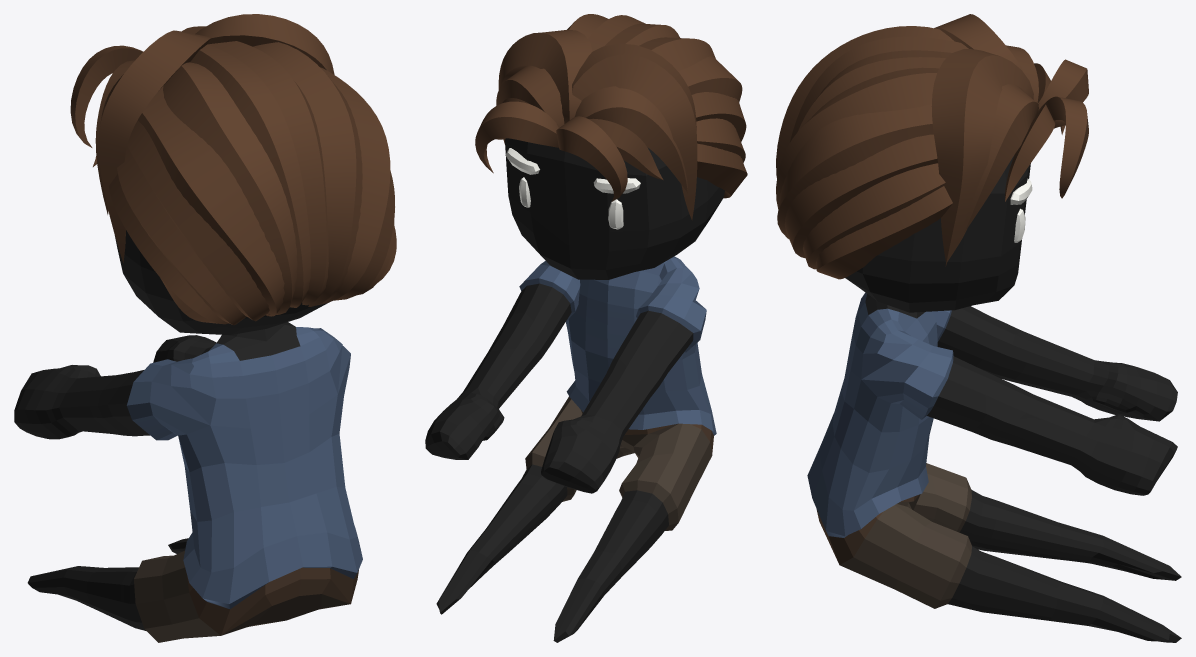
Rendered from Pilot_TiDjo.fbx.
The picture shows the model from 3 angles, left to right: view 1: azimuth 30°, elevation 25°; view 2: azimuth 150°, elevation 25°; view 3: azimuth 270°, elevation 25°; orthographic projection. The views are drawn at different scales.
Parts seen in each view (by area): view 1: Pilot_TiDjo; view 2: Pilot_TiDjo; view 3: Pilot_TiDjo.
Boxes of the visible parts, x1,y1,x2,y2 form: Pilot_TiDjo: (14,14,396,642); Pilot_TiDjo: (425,14,747,642); Pilot_TiDjo: (776,14,1181,642).
Size of the model in its own units: 0.4742 by 1.15 by 0.7421.
